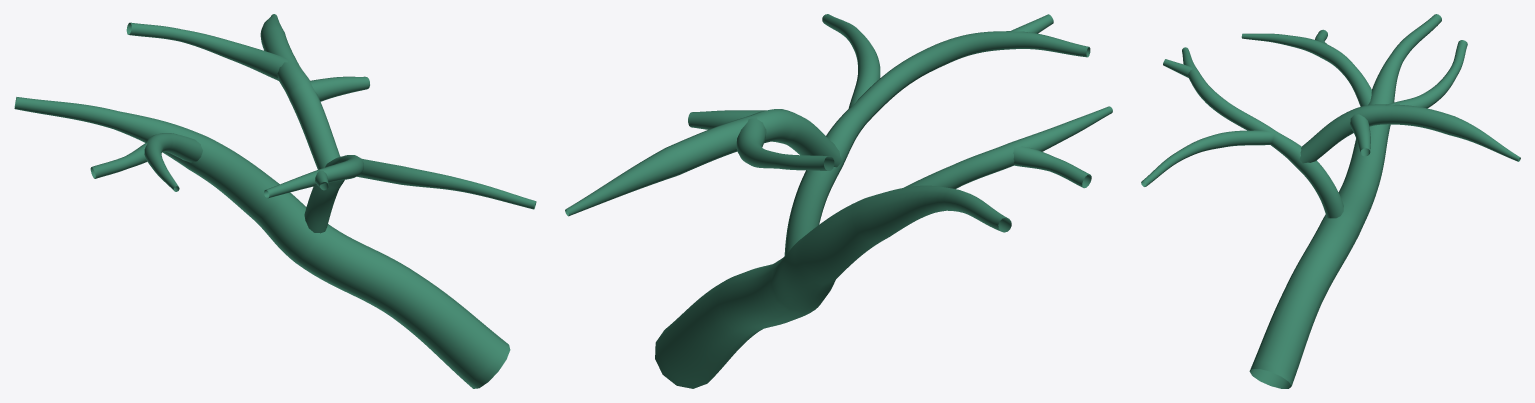
3 renders of one model, left to right at view 1: azimuth 30°, elevation 25°; view 2: azimuth 150°, elevation 25°; view 3: azimuth 270°, elevation 25°, orthographic. The views are drawn at different scales.
Parts seen in each view (by area): view 1: 右肺下叶上段支气管（第6段）; view 2: 右肺下叶上段支气管（第6段）; view 3: 右肺下叶上段支气管（第6段）.
Part boxes in pixels (box(x1,y1,x2,y2)): 右肺下叶上段支气管（第6段）: box(14, 14, 536, 388); 右肺下叶上段支气管（第6段）: box(565, 14, 1112, 388); 右肺下叶上段支气管（第6段）: box(1141, 14, 1520, 388).
Bounding box in the file's own units: 0.105 × 0.0851 × 0.1119.
